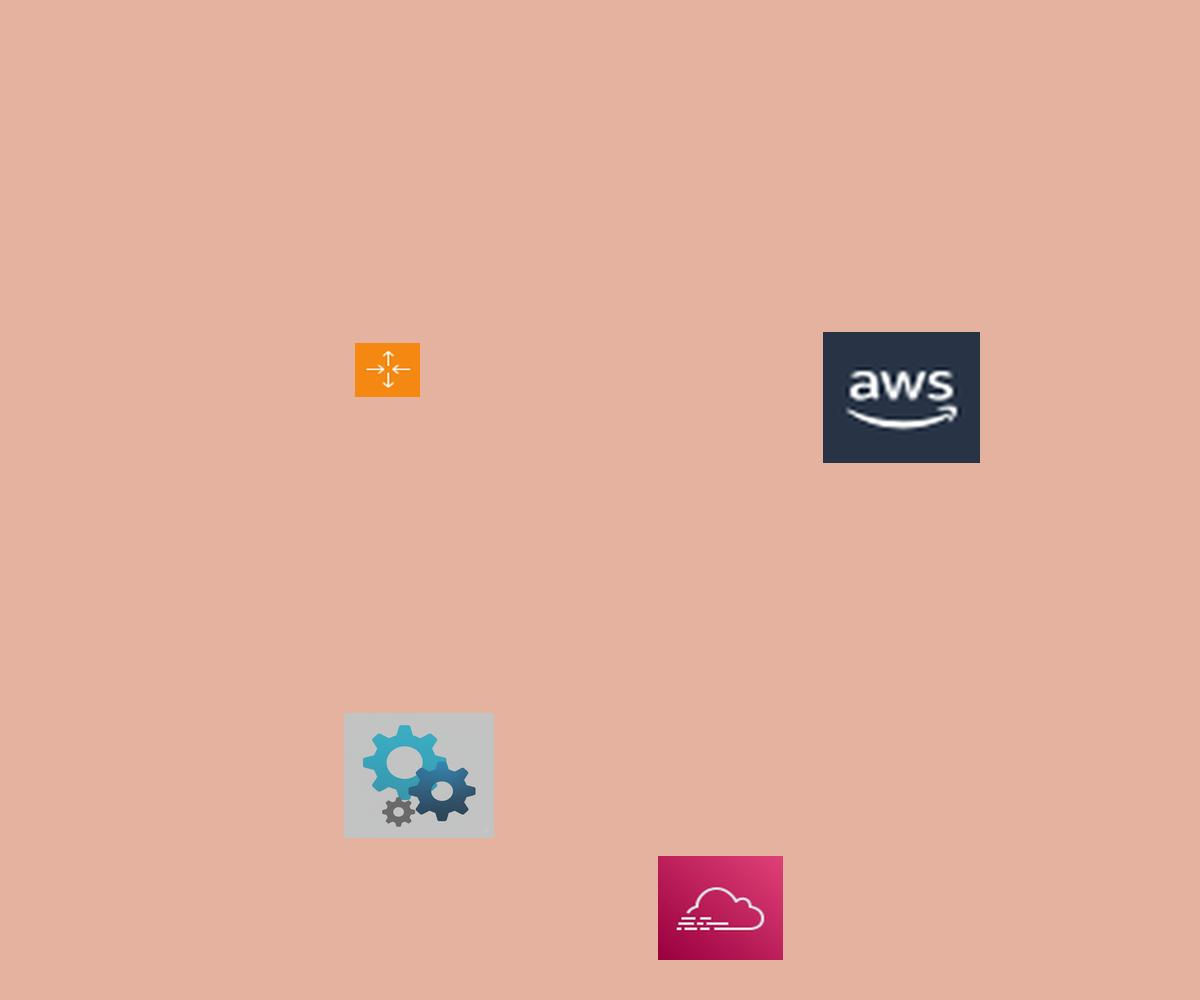AWS-Cloud-logo: (823, 332, 980, 463)
AWS-CloudTrail: (658, 856, 783, 960)
AWS-Scaling-group: (355, 343, 420, 397)
Azure_api: (344, 713, 494, 838)
